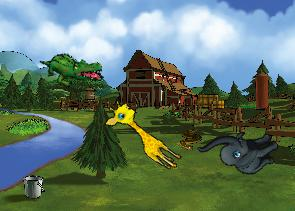crocodile: (39, 45, 105, 93)
elephant: (196, 108, 285, 193)
giraffe: (99, 96, 190, 173)
